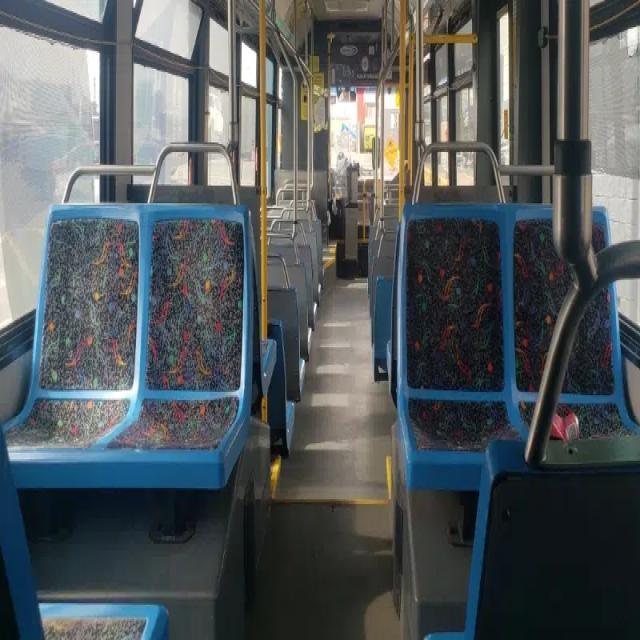empty-seat-frontal: (109, 143, 253, 500), (395, 135, 527, 492), (0, 163, 144, 484)
